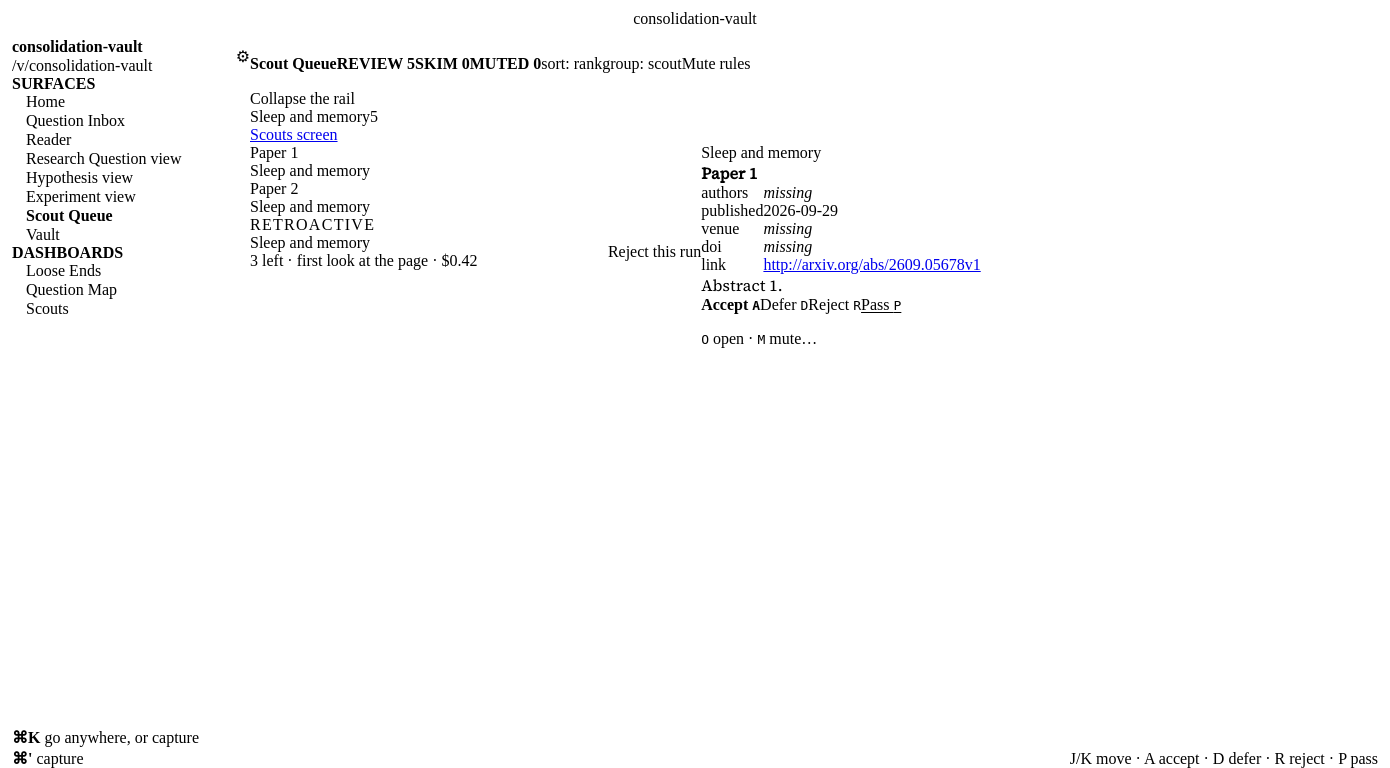
Test: Reject this run › says a refusal as an alert, never beside an undo
This screenshot has width=1390, height=768.
Click the button "Reject this run": (655, 252) [608,243,701,261]
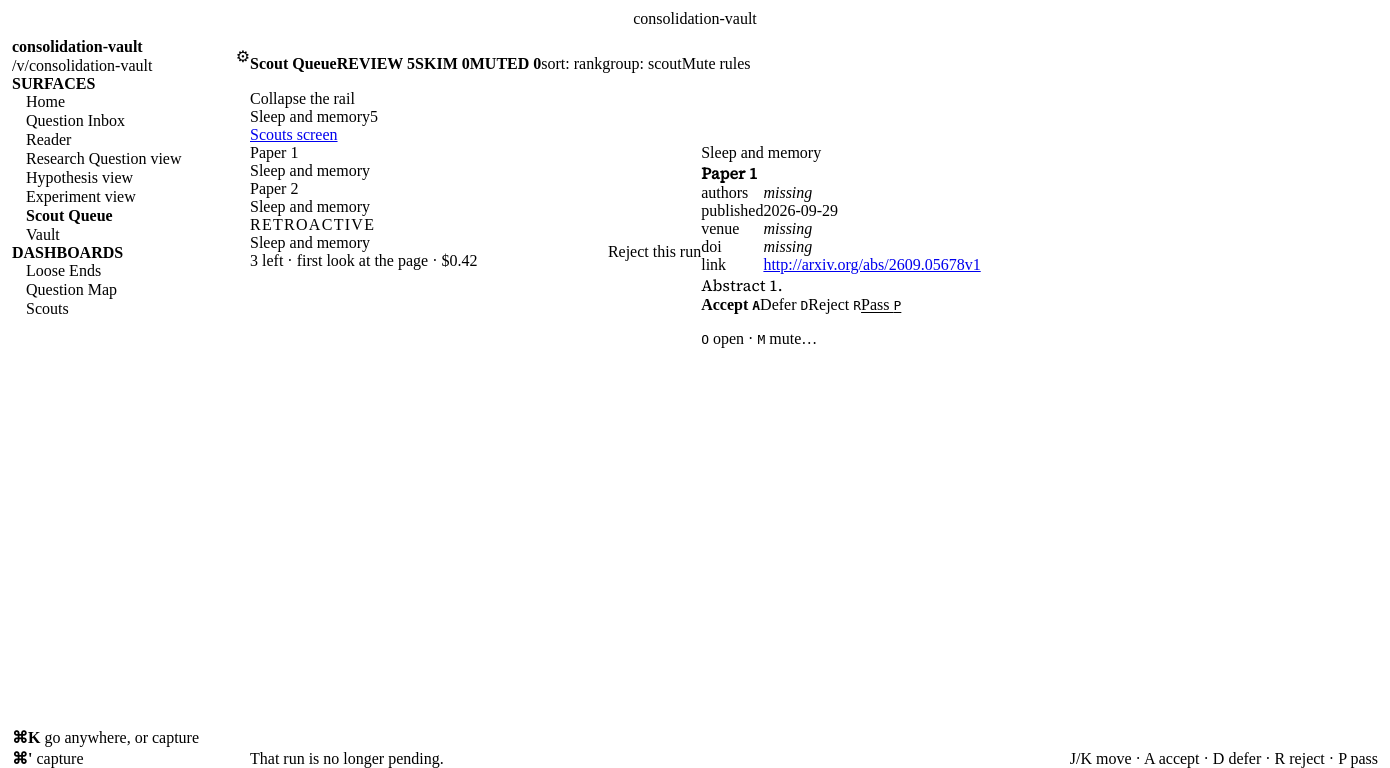
Now the message reads "That run is no longer pending.", box [250,750,444,767]
